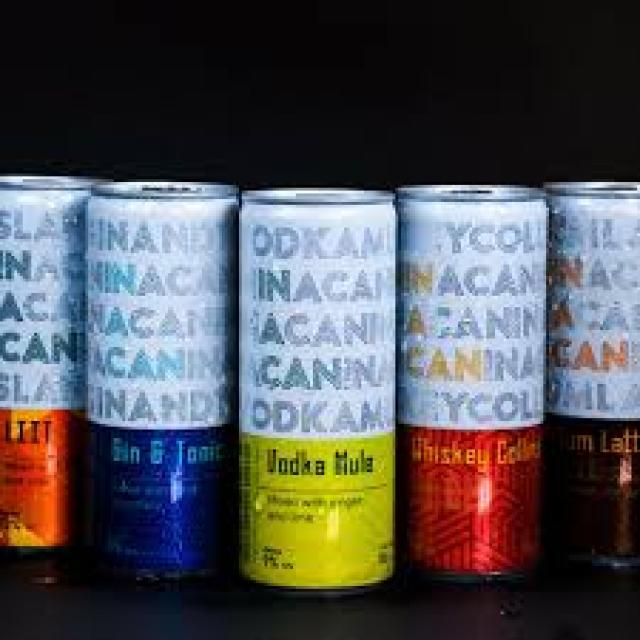Cans: (236, 173, 401, 594), (80, 170, 242, 578), (390, 173, 549, 578)
